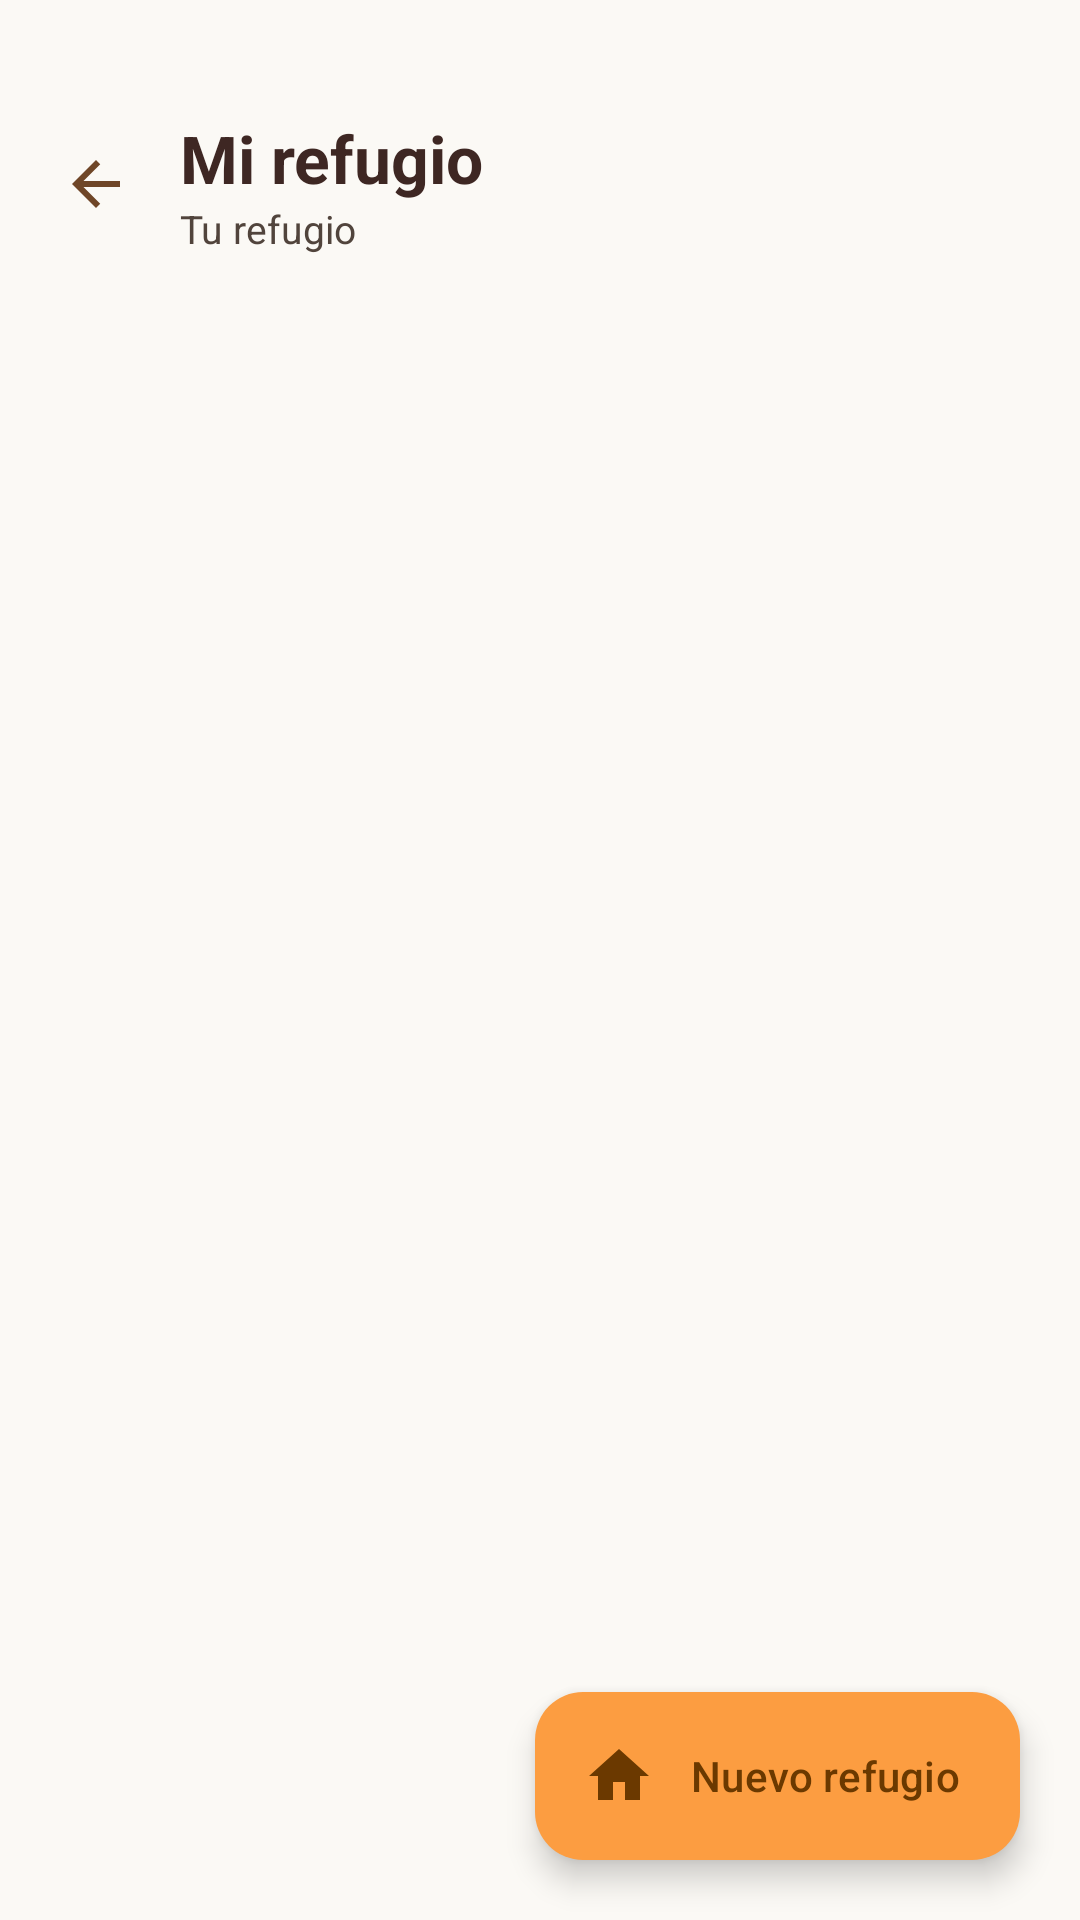

Icon bounding boxes for this 1080px×1920px phone screenshot, format (x1, y1, x2, y2):
Volver: (72, 160, 120, 208)
